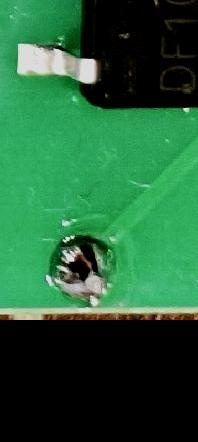ic: (9, 0, 198, 113)
